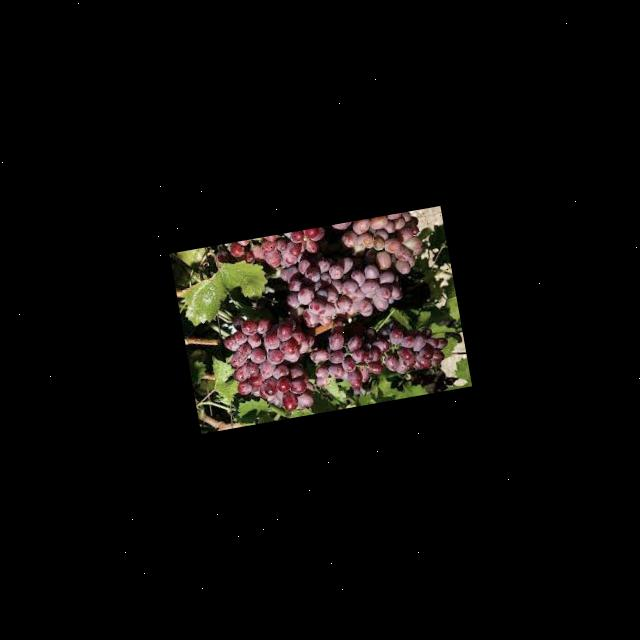grape: (205, 209, 454, 422)
